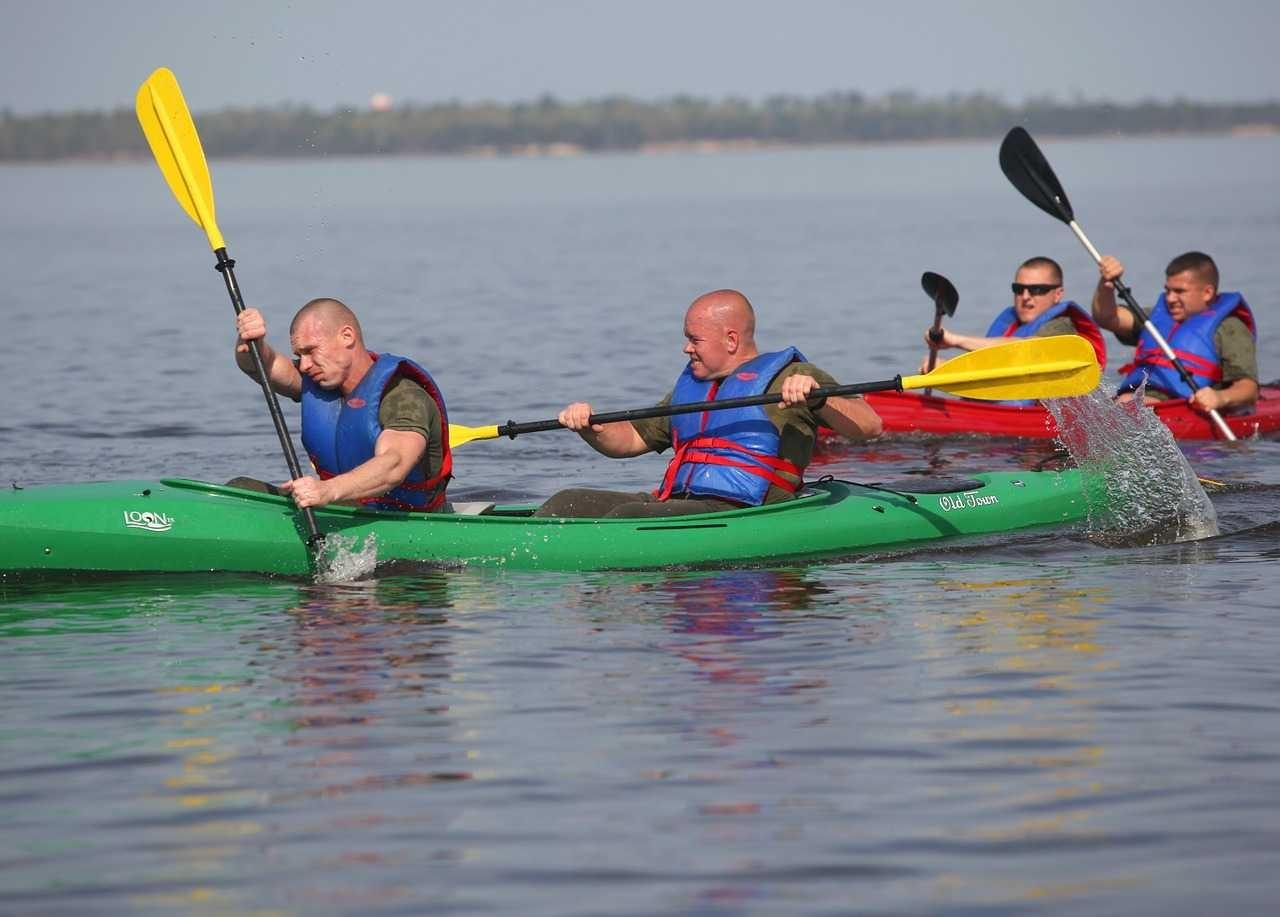kayak: (1, 446, 1135, 580)
